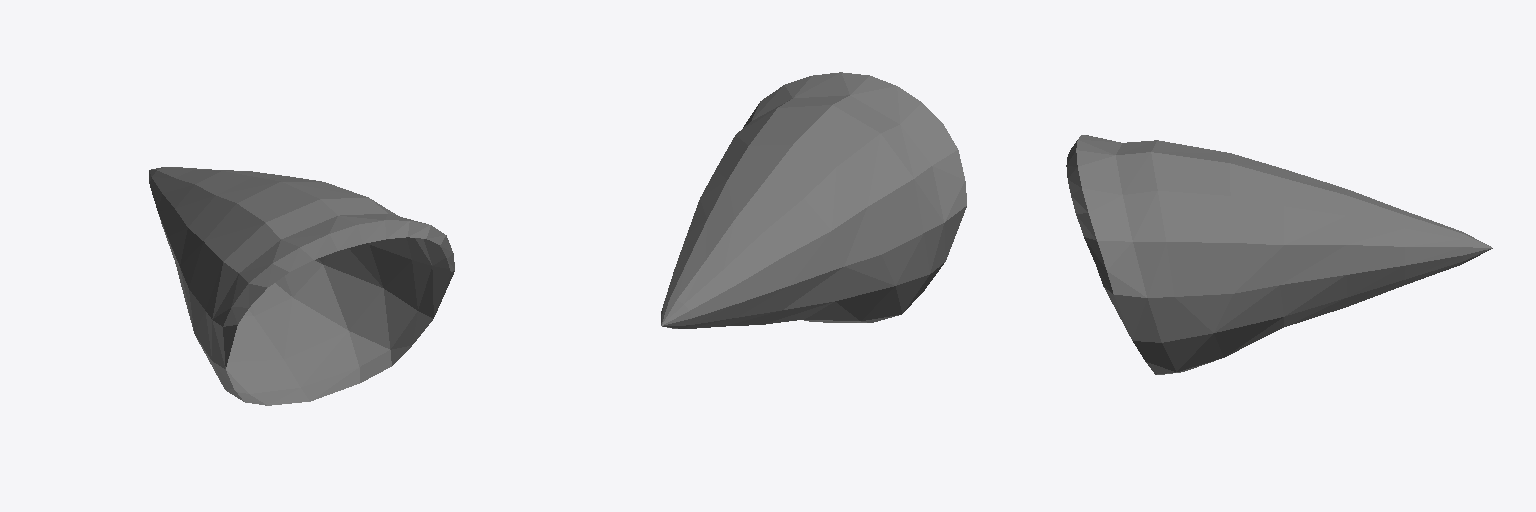
Rendered from sombrero.obj.
3 views of the same model, side by side, from view 1: azimuth 30°, elevation 25°; view 2: azimuth 150°, elevation 25°; view 3: azimuth 270°, elevation 25° (orthographic).
Visible parts, largest first — view 1: sombrero; view 2: sombrero; view 3: sombrero.
Part boxes in pixels (bbox=[...]): sombrero: bbox=[149, 167, 454, 405]; sombrero: bbox=[661, 72, 966, 328]; sombrero: bbox=[1066, 135, 1492, 374].
Size of the model in its own units: 2.1 by 1.83 by 3.34.